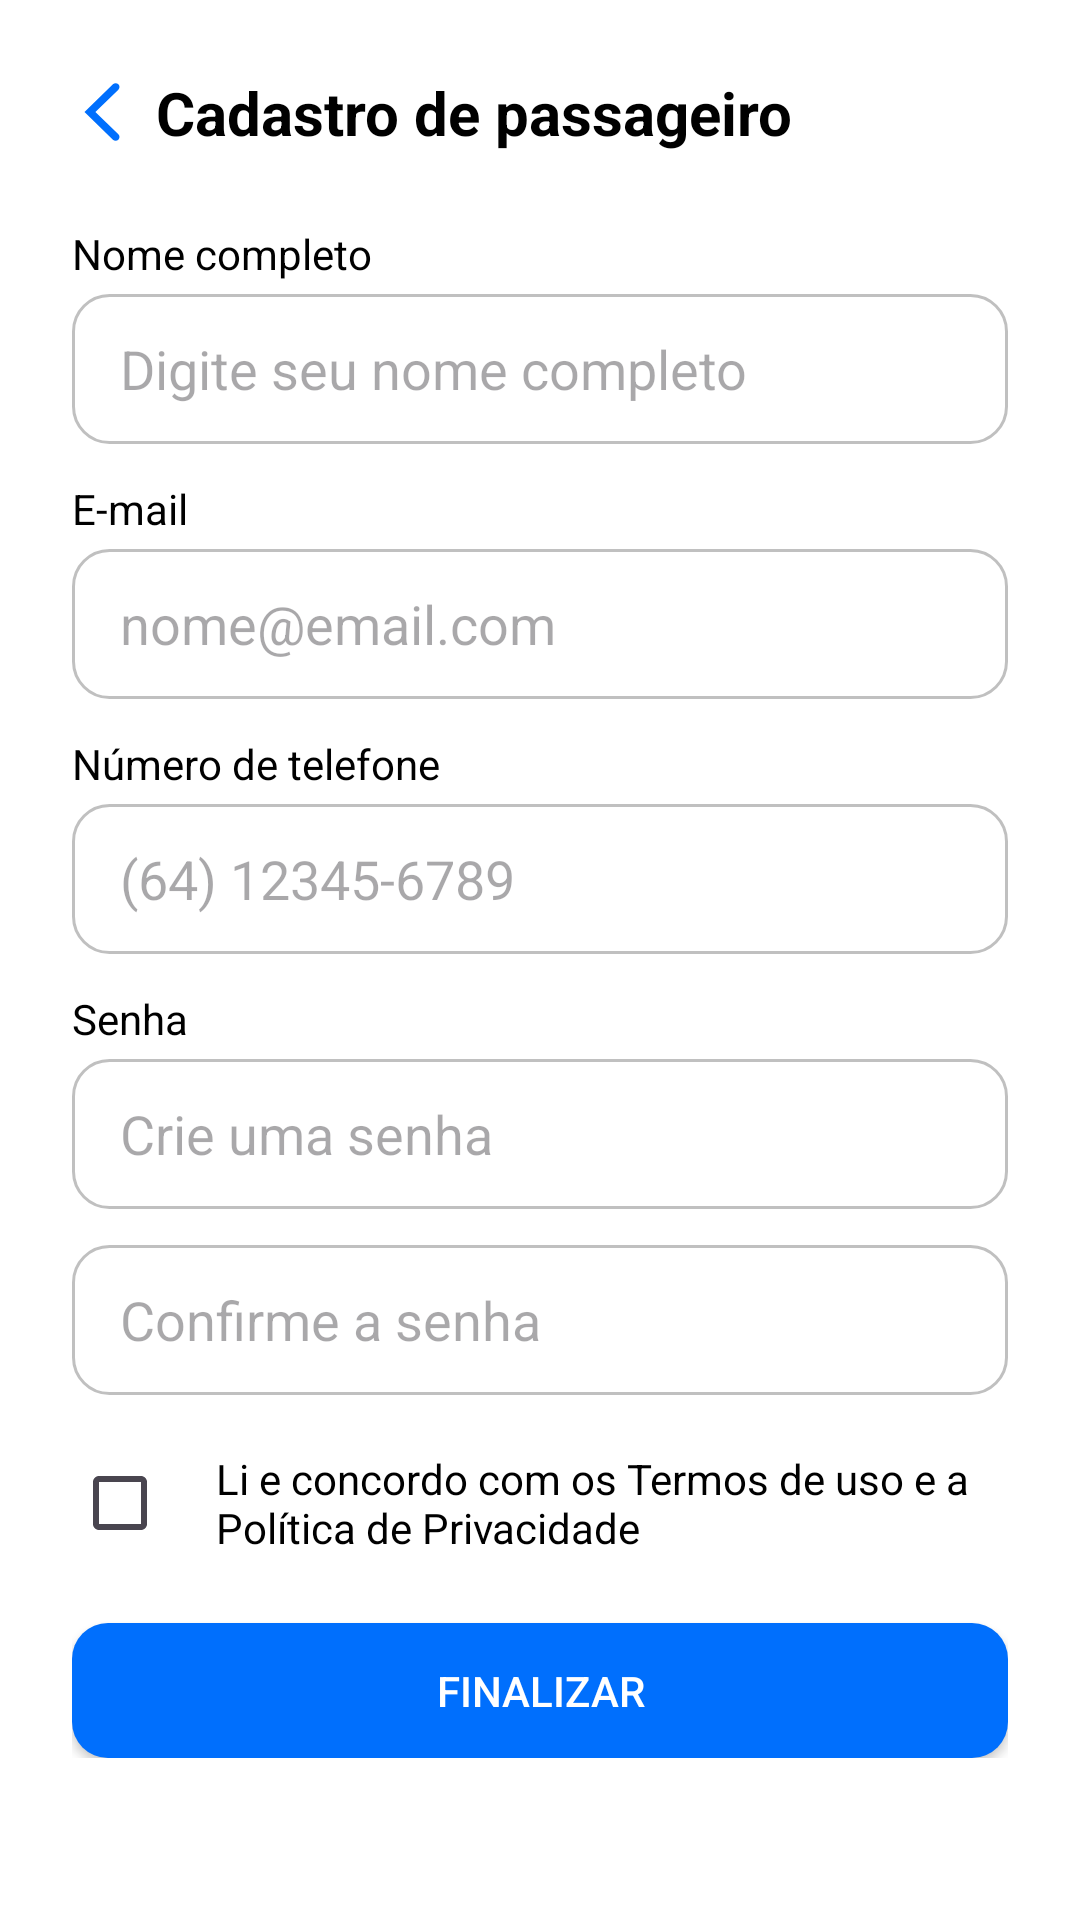

Icon click points for this 1080px×1920px phone screenshot, format (x,y):
Voltar: (102,112)
